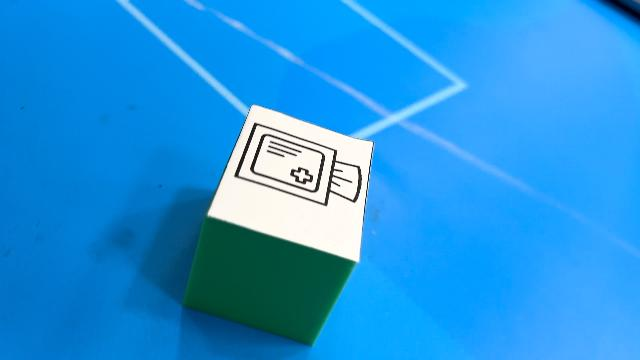napkin: (181, 102, 377, 348)
